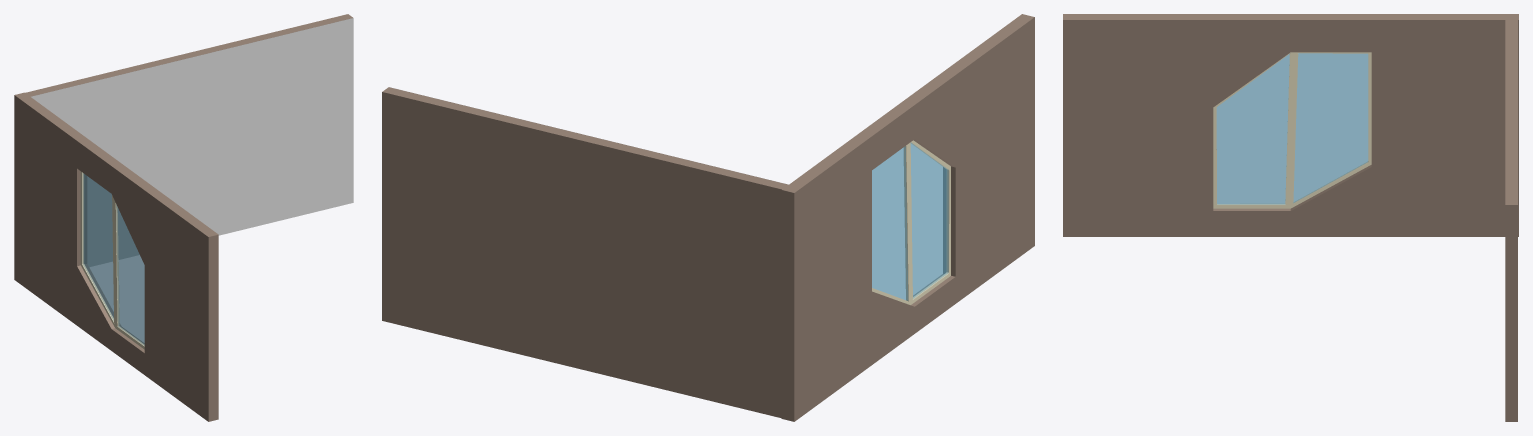
File: walls_tier15.fbx
3 views of the same model, side by side, from view 1: azimuth 30°, elevation 25°; view 2: azimuth 150°, elevation 25°; view 3: azimuth 270°, elevation 25° (orthographic). The views are drawn at different scales.
Parts seen in each view (by area): view 1: Cube.007, Cube, Cube.003, Cube.001; view 2: Cube.007, Cube, Cube.003, Cube.001; view 3: Cube, Cube.003, Cube.007, Cube.001.
Part boxes in pixels (x1,y1,x2,y2): Cube.007: (24,14,353,266); Cube: (14,92,218,421); Cube.003: (83,173,144,345); Cube.001: (80,171,144,349); Cube.007: (382,87,788,418); Cube: (781,14,1034,421); Cube.003: (872,143,948,300); Cube.001: (872,140,950,305); Cube: (1063,14,1518,236); Cube.003: (1216,53,1368,204); Cube.007: (1505,19,1517,421); Cube.001: (1213,52,1371,208).
Bounding box in the file's own units: 653 × 346 × 658.
